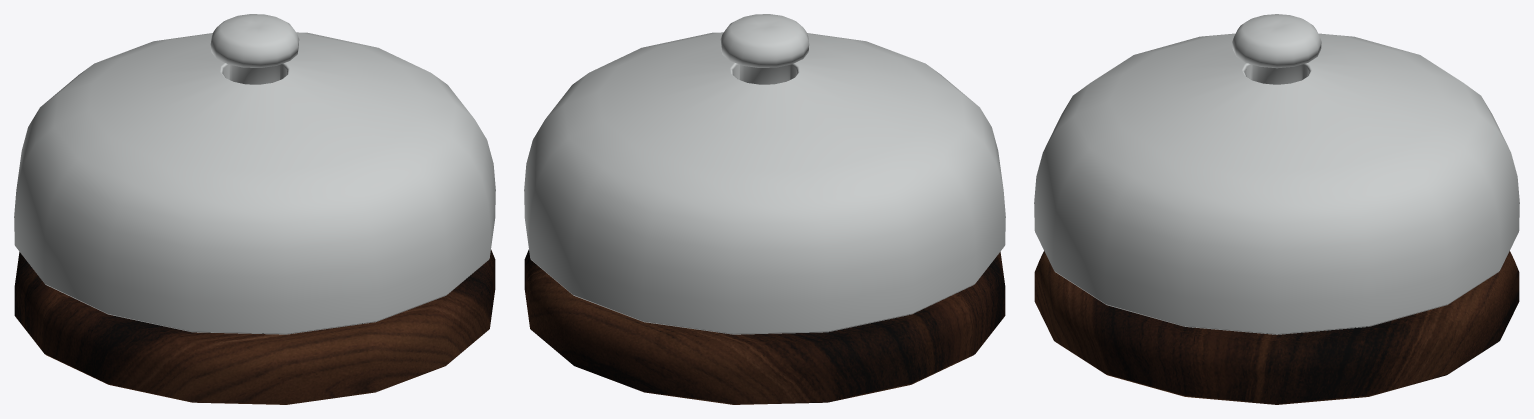
Rendered from bell.glb.
The picture shows the model from 3 angles, left to right: view 1: azimuth 30°, elevation 25°; view 2: azimuth 150°, elevation 25°; view 3: azimuth 270°, elevation 25°; orthographic projection.
Parts seen in each view (by area): view 1: Object_2, Object_3; view 2: Object_2, Object_3; view 3: Object_2, Object_3.
Boxes of the visible parts, box(x1,y1,x2,y2) form: Object_2: box(14, 32, 495, 404); Object_3: box(210, 14, 299, 84); Object_2: box(524, 32, 1005, 404); Object_3: box(720, 14, 809, 84); Object_2: box(1034, 33, 1519, 404); Object_3: box(1232, 14, 1321, 84).
Size of the model in its own units: 1.85 by 1.17 by 1.85.
2 materials, 2 textured.
